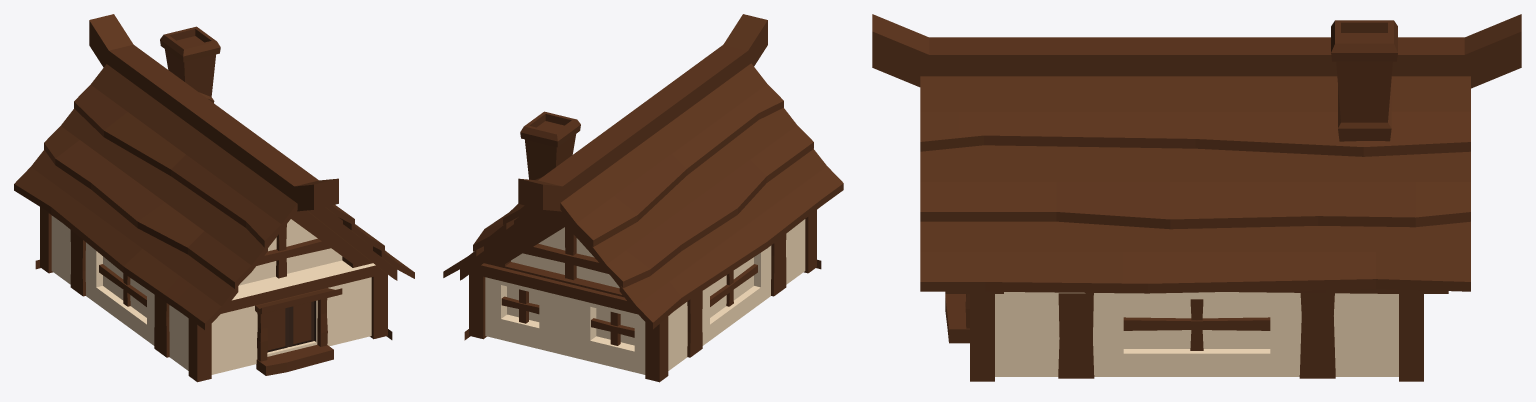
The model's file is domek2_mat.fbx.
3 views of the same model, side by side, from view 1: azimuth 30°, elevation 25°; view 2: azimuth 150°, elevation 25°; view 3: azimuth 270°, elevation 25° (orthographic). The views are drawn at different scales.
Parts seen in each view (by area): view 1: Cube.017; view 2: Cube.017; view 3: Cube.017.
Boxes of the visible parts, box(x1,y1,x2,y2) form: Cube.017: box(14, 14, 414, 382); Cube.017: box(443, 14, 843, 382); Cube.017: box(872, 14, 1521, 381).
Size of the model in its own units: 1218 by 1170 by 2208.
